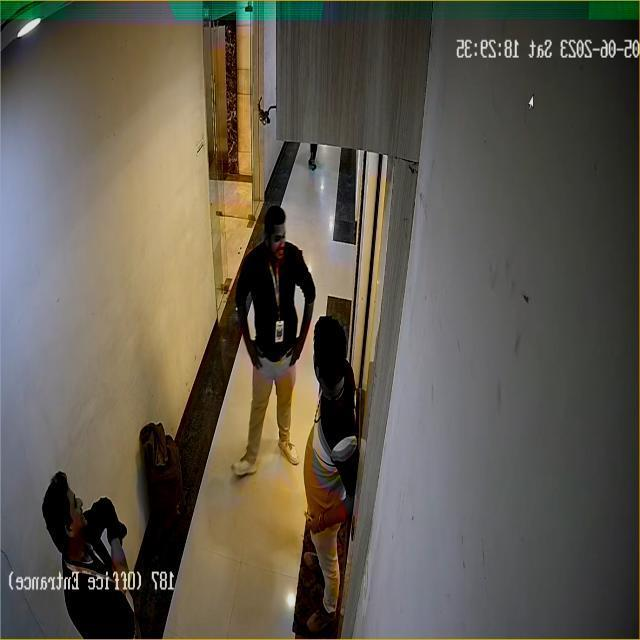gunny_bag: (135, 416, 189, 546)
